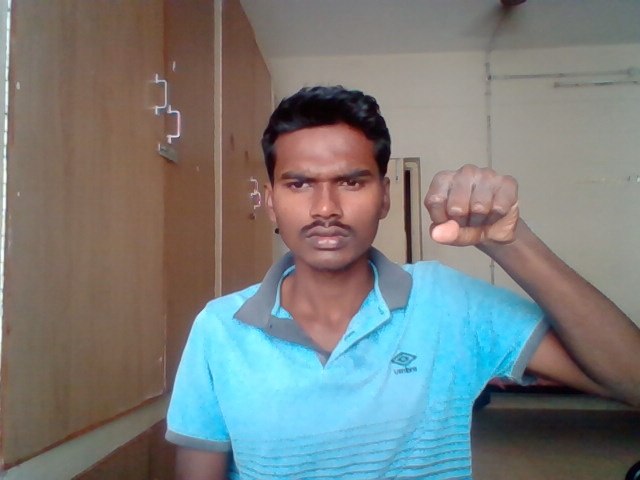Thank You: (425, 164, 520, 246)
